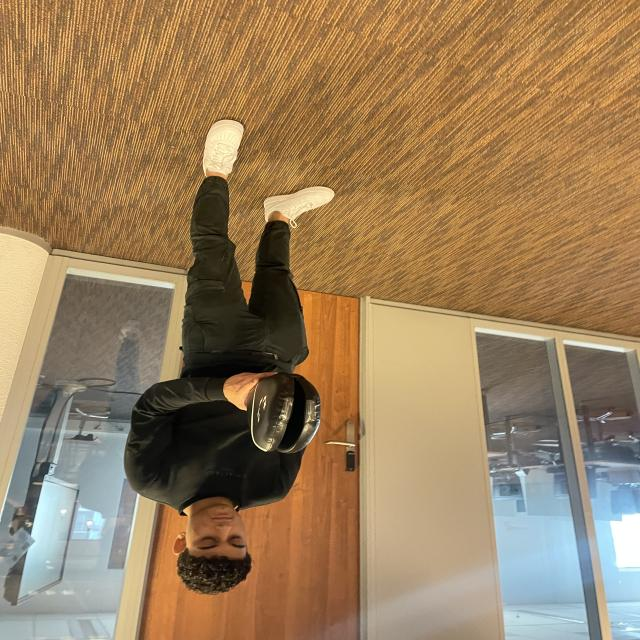paddle: (248, 370, 318, 457)
